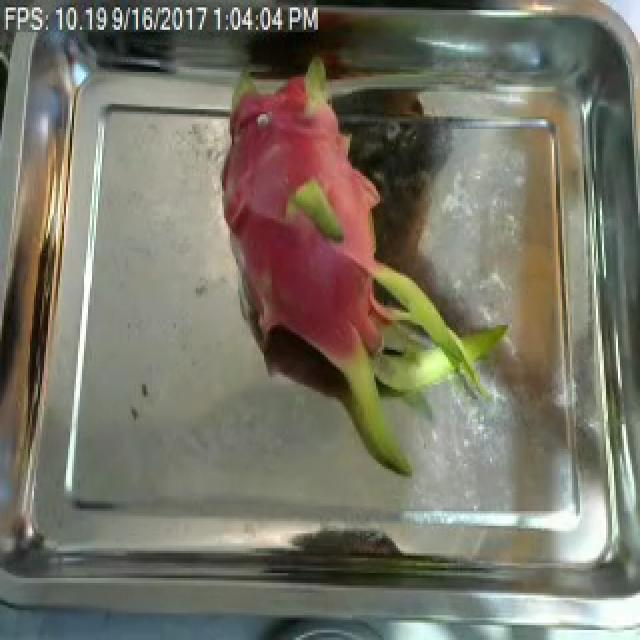fruit: (212, 74, 500, 484)
